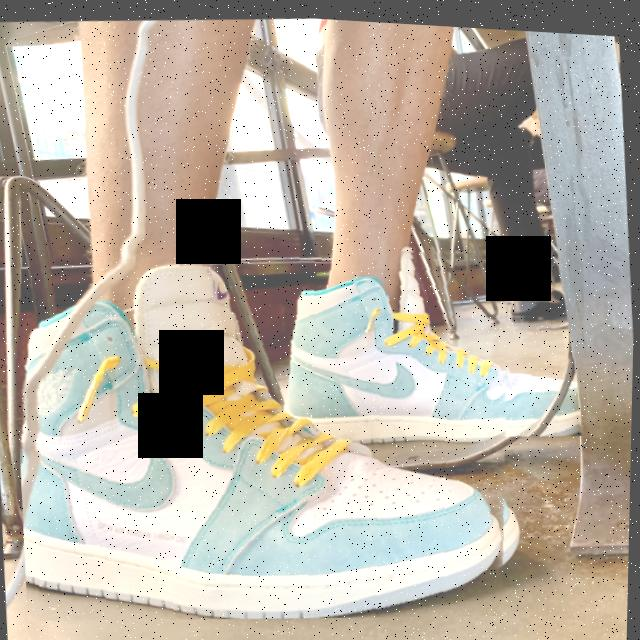shoe: (5, 225, 534, 640), (284, 224, 587, 448)
